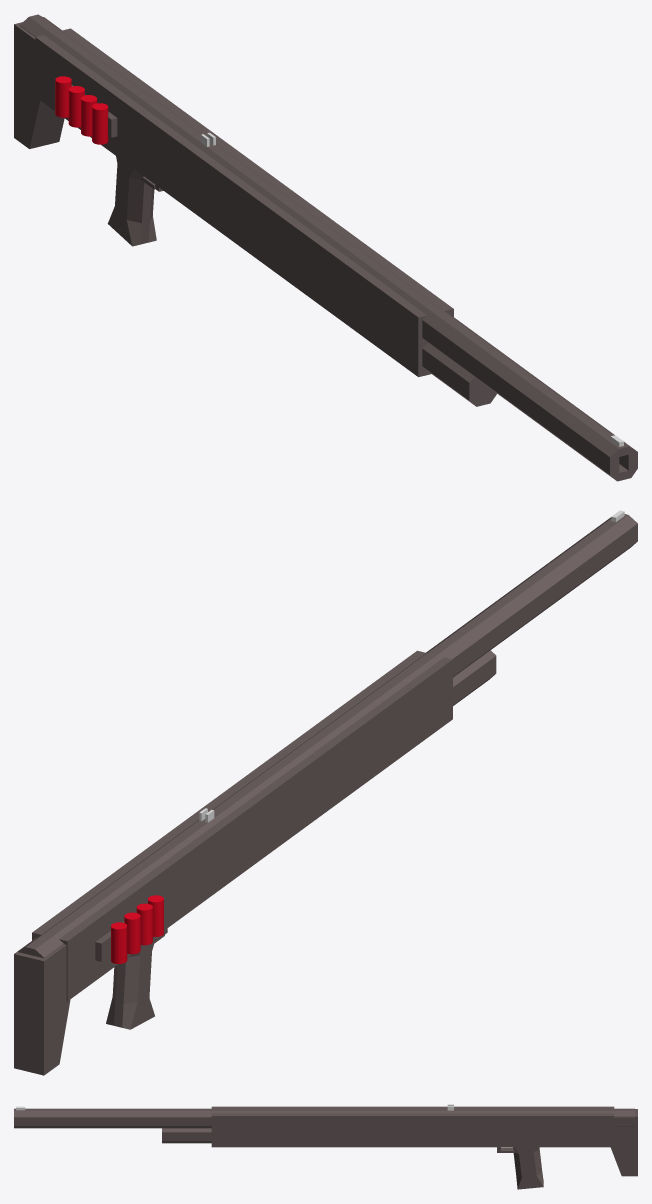
Rendered from bigger bigger gun.glb.
3 views of the same model, one above another, from view 1: azimuth 30°, elevation 25°; view 2: azimuth 150°, elevation 25°; view 3: azimuth 270°, elevation 25° (orthographic). The views are drawn at different scales.
Visible parts, largest first — view 1: Cube.002, Cube.004, Cube.009, Cube, Cube.001, Cylinder.003; view 2: Cube.002, Cube.004, Cube.009, Cube, Cube.001; view 3: Cube.002, Cube.004, Cube.009, Cube, Cube.001.
Part boxes in pixels (x1,y1,x2,y2): Cube.002: (35,28,453,377); Cube.004: (19,14,637,481); Cube.009: (14,17,64,148); Cube: (107,156,156,246); Cube.001: (422,343,496,406); Cylinder.003: (92,103,108,144); Cube.002: (32,650,452,1001); Cube.004: (17,514,637,958); Cube.009: (14,937,70,1075); Cube: (106,937,155,1029); Cube.001: (453,650,496,705); Cube.002: (211,1106,614,1147); Cube.004: (14,1108,634,1128); Cube.009: (610,1109,637,1176); Cube: (513,1147,543,1189); Cube.001: (162,1128,211,1143).
Bounding box in the file's own units: 0.7676 × 2.1 × 14.66.
